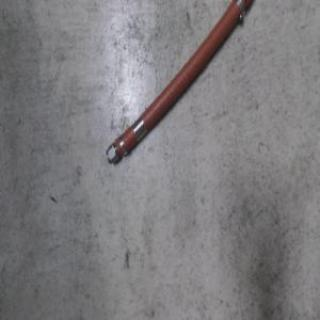Hosetrack_idkeyframe: (103, 0, 255, 170)
